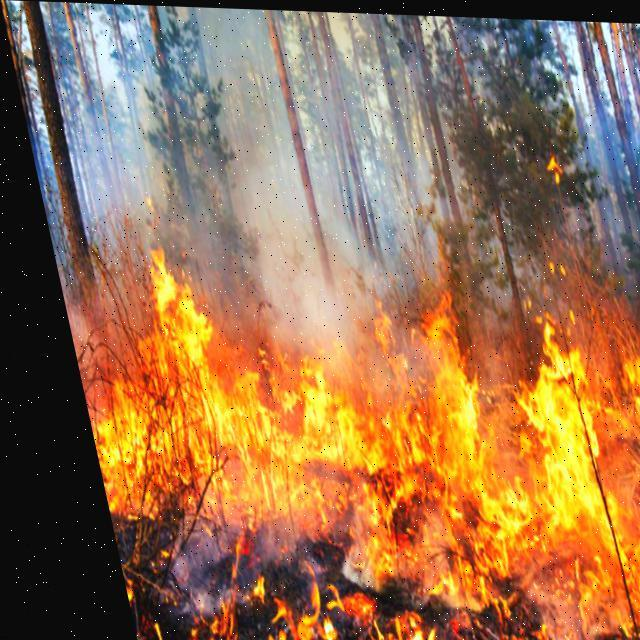Fire: (47, 264, 639, 639)
